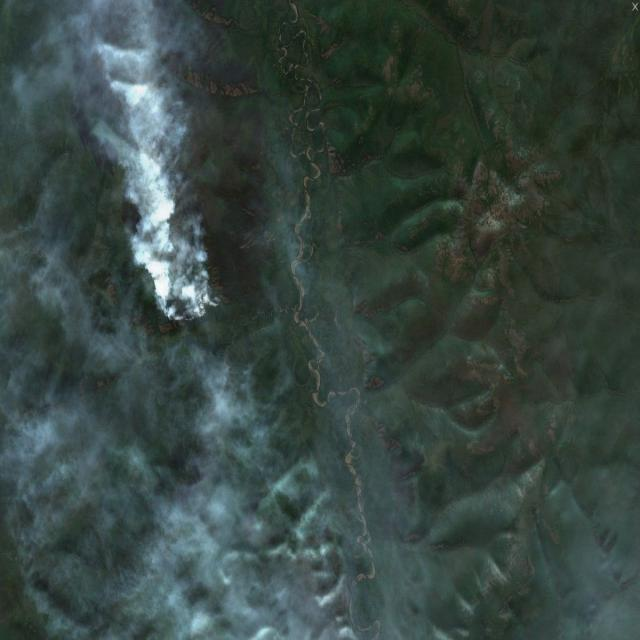fire: (126, 173, 220, 329)
